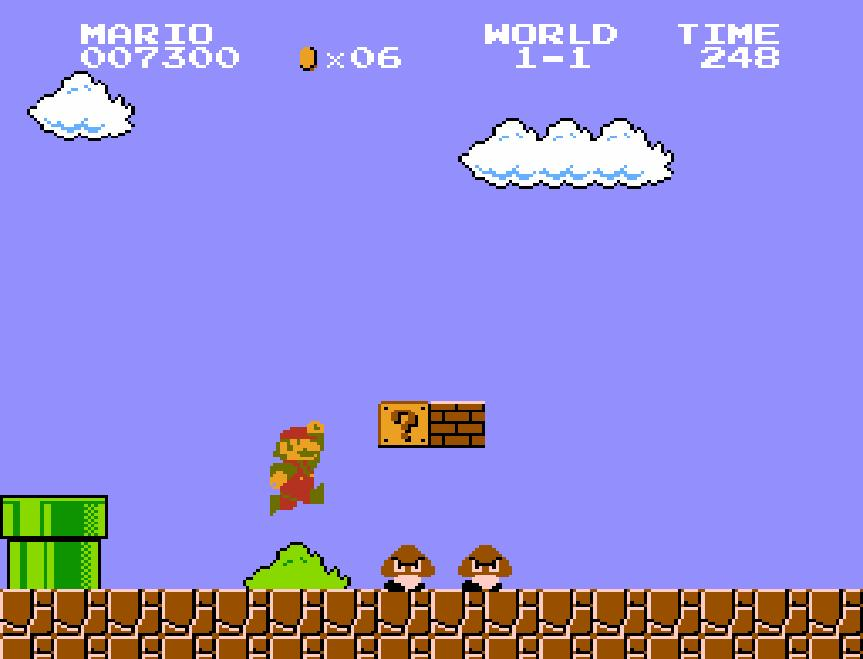big_mario: (267, 420, 325, 518)
